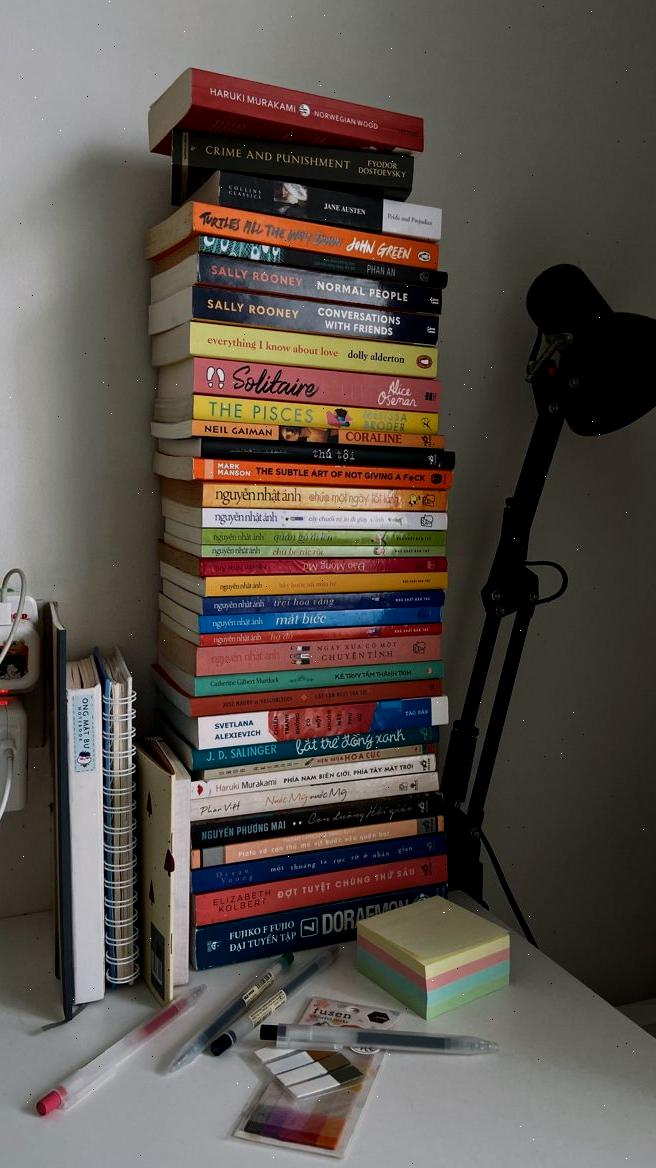book: (153, 68, 423, 157), (187, 170, 438, 240), (157, 253, 443, 314), (177, 318, 444, 379), (182, 360, 443, 418), (160, 630, 448, 681), (181, 767, 442, 823), (168, 564, 450, 601), (172, 479, 451, 514), (187, 505, 452, 533)
